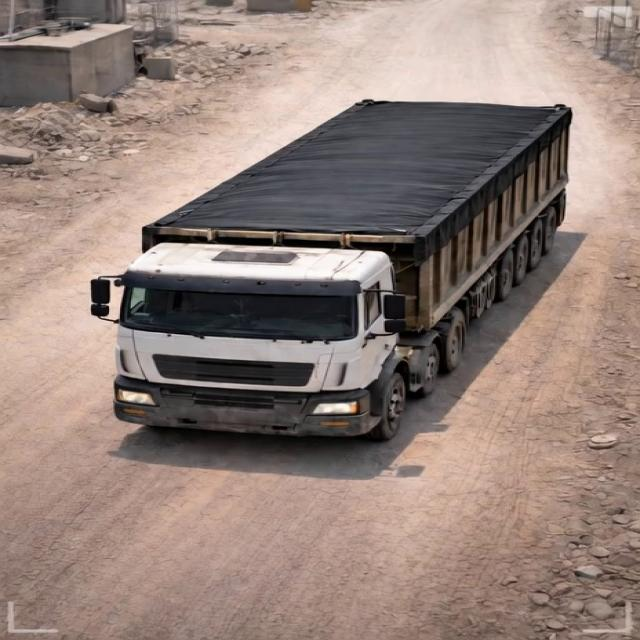Box: (140, 100, 579, 242)
Truck: (91, 76, 584, 435)
